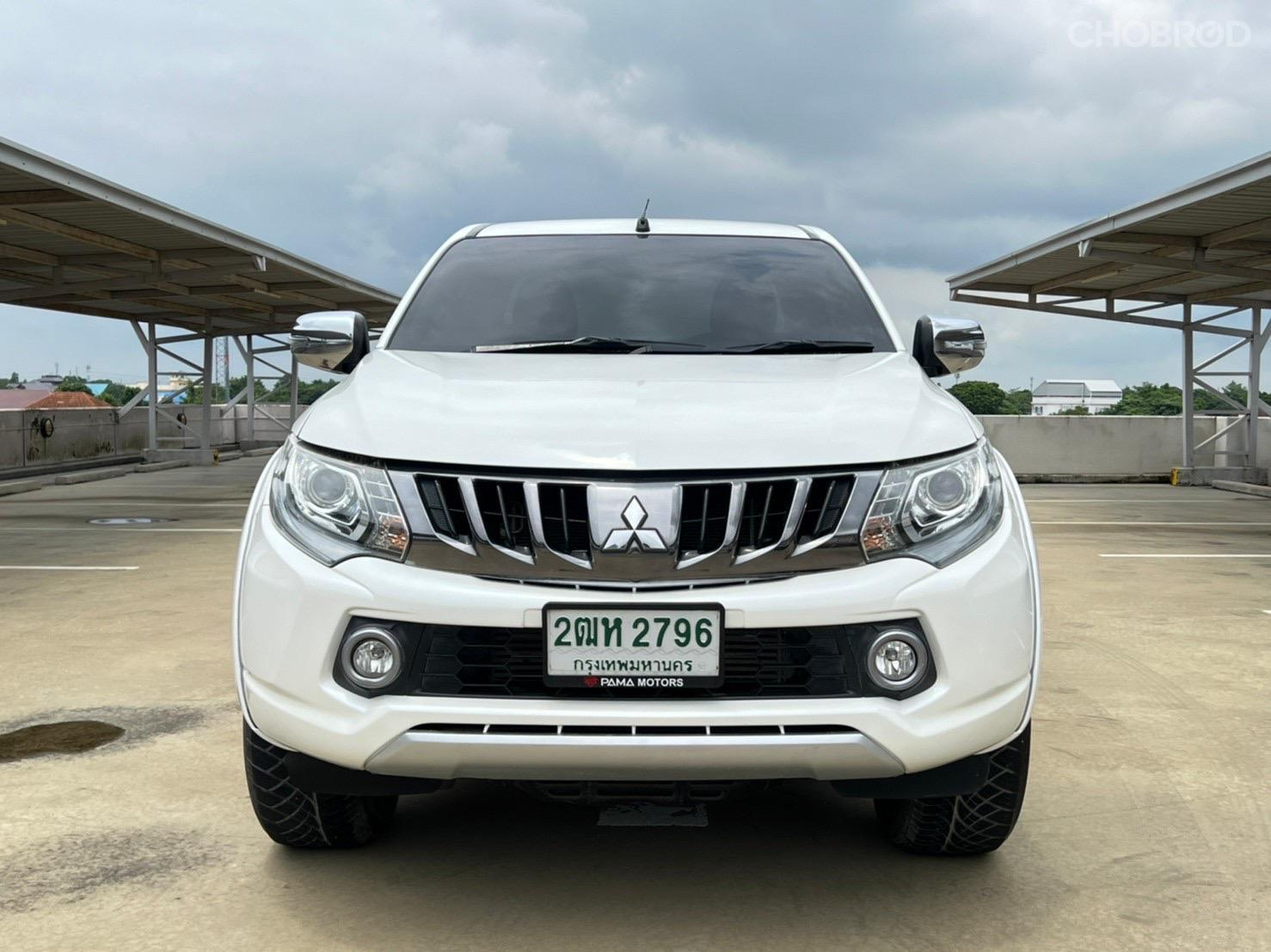license-plate: (538, 596, 726, 696)
